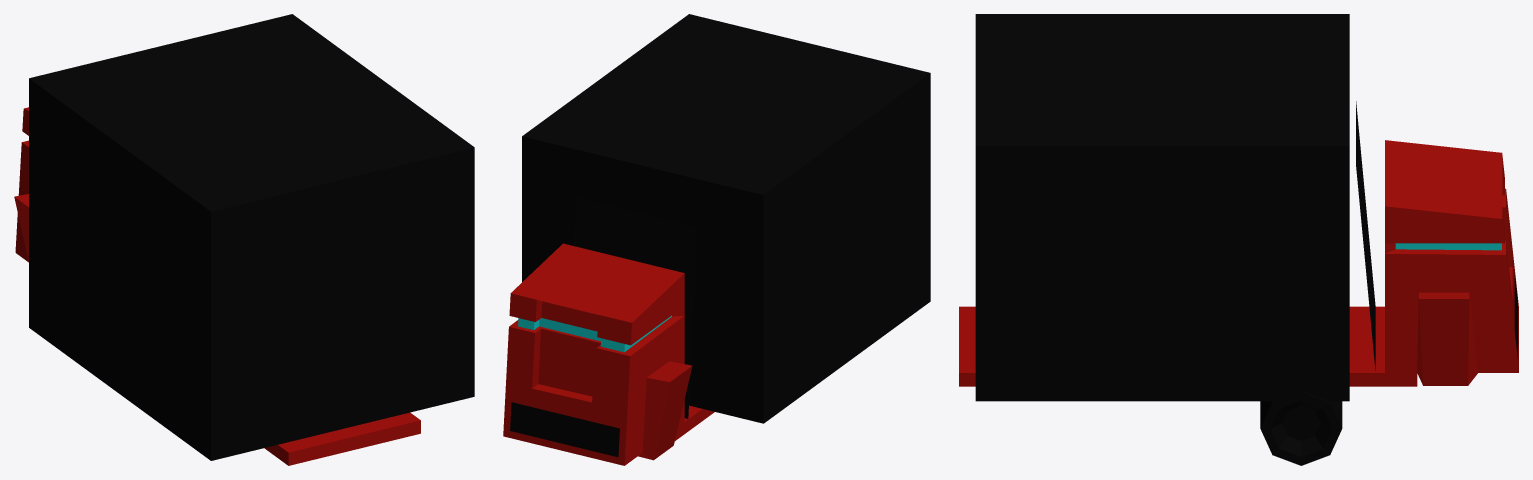
Rendered from ContenaCar.gltf.
3 renders of one model, left to right at view 1: azimuth 30°, elevation 25°; view 2: azimuth 150°, elevation 25°; view 3: azimuth 270°, elevation 25°, orthographic. The views are drawn at different scales.
Visible parts, largest first — view 1: Cube, 立方体; view 2: Cube, 立方体, 立方体.001, 立方体.002; view 3: Cube, 立方体, 円柱, 立方体.001.
Boxes of the visible parts, left/top/right/bottom form: Cube: left=29, top=14, right=474, bottom=460; 立方体: left=14, top=107, right=420, bottom=465; Cube: left=522, top=14, right=930, bottom=423; 立方体: left=503, top=243, right=714, bottom=465; 立方体.001: left=574, top=198, right=696, bottom=418; 立方体.002: left=510, top=402, right=619, bottom=457; Cube: left=975, top=14, right=1349, bottom=401; 立方体: left=959, top=140, right=1518, bottom=386; 円柱: left=1260, top=391, right=1342, bottom=465; 立方体.001: left=1356, top=101, right=1375, bottom=370.
Bounding box in the file's own units: 16.24 × 18.19 × 28.92.
